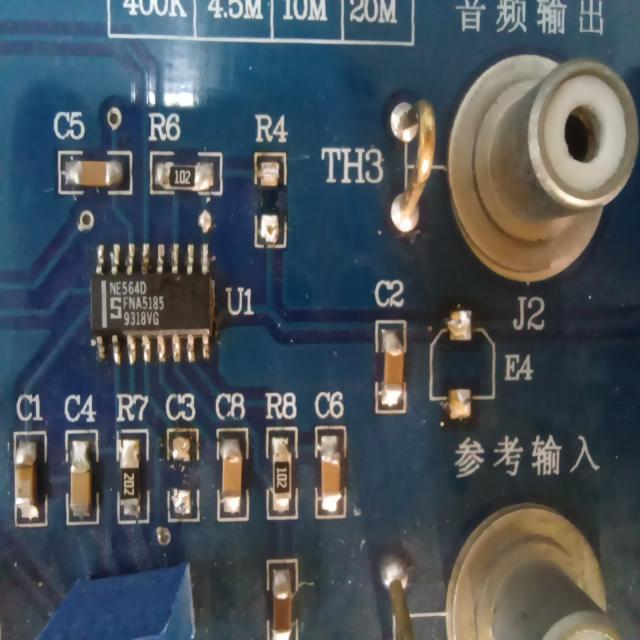Missing component: (423, 304, 533, 434), (247, 102, 291, 258), (162, 384, 200, 525)
